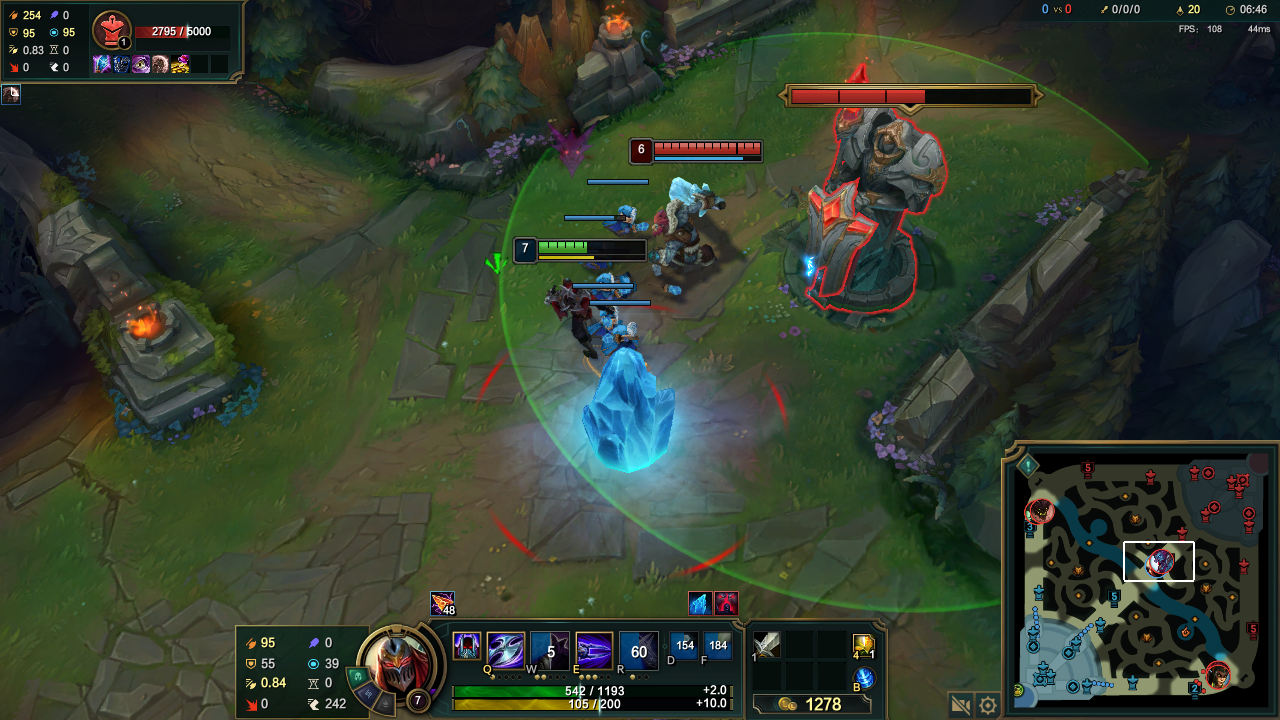DFYX: (655, 142, 765, 161)
